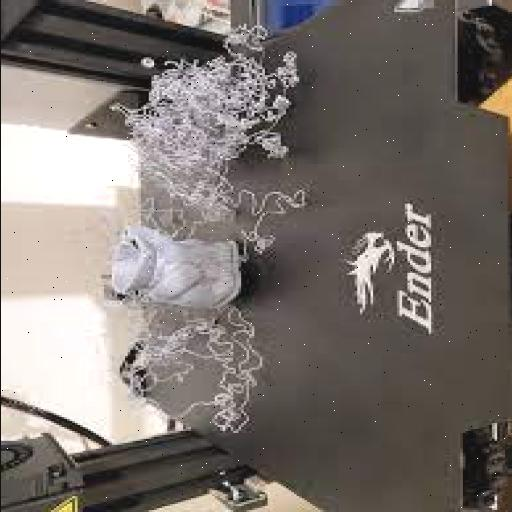spaghetti: (112, 28, 324, 216), (84, 316, 268, 426)
